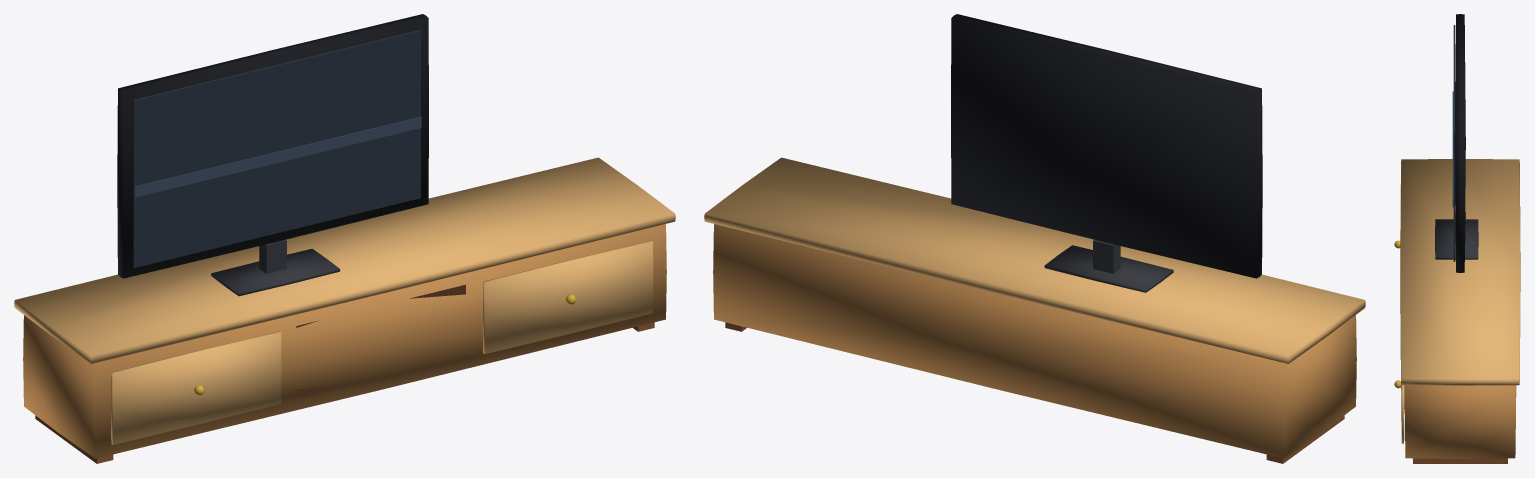
The model's file is tv_small.glb.
3 renders of one model, left to right at view 1: azimuth 30°, elevation 25°; view 2: azimuth 150°, elevation 25°; view 3: azimuth 270°, elevation 25°, orthographic. The views are drawn at different scales.
Parts seen in each view (by area): view 1: root; view 2: root; view 3: root.
Boxes of the visible parts, x1,y1,x2,y2 form: root: (14,14,675,463); root: (704,14,1365,463); root: (1394,14,1520,463).
Bounding box in the file's own units: 2.86 × 1.58 × 0.692.
